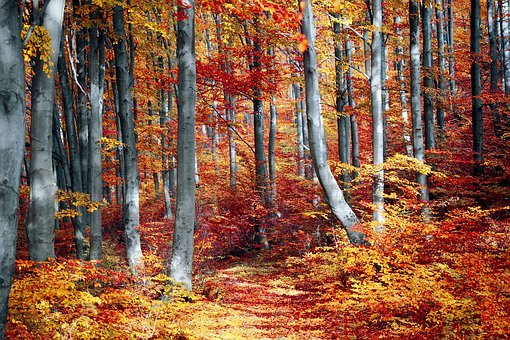forest: (4, 2, 510, 335)
tree: (298, 1, 398, 254), (75, 1, 143, 324), (149, 1, 217, 324), (1, 1, 68, 324)
